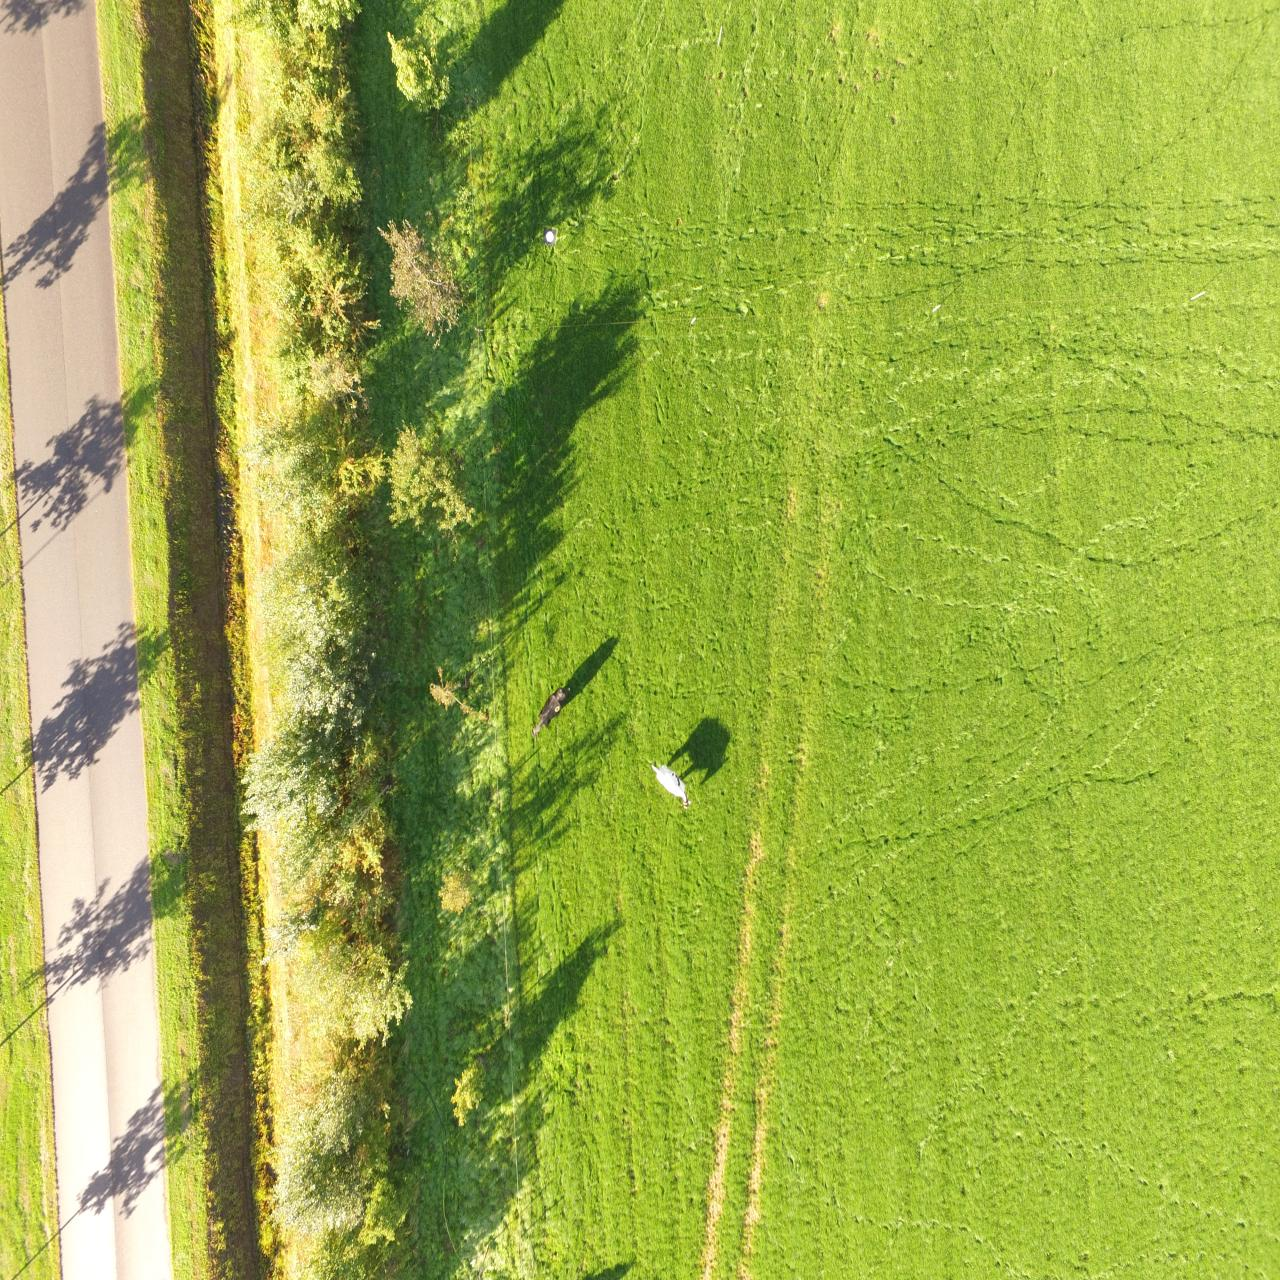cow: (526, 682, 572, 738), (651, 761, 693, 805)
